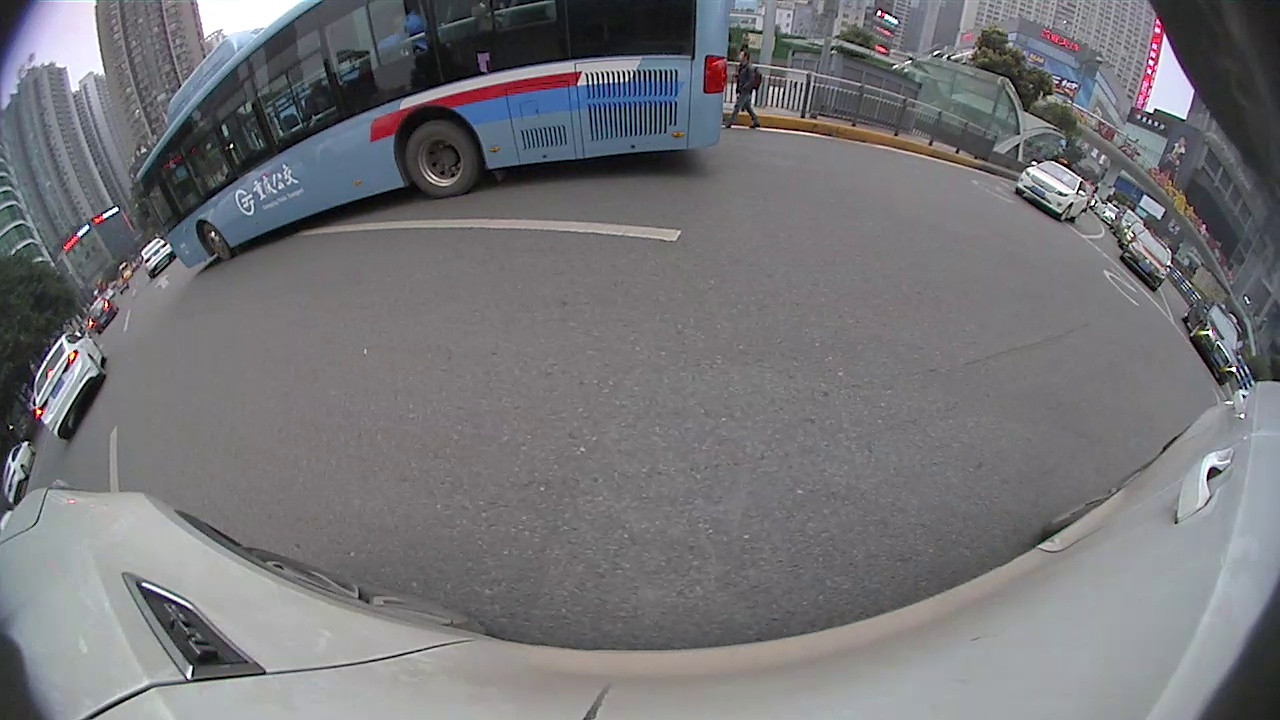bus: (132, 1, 734, 275)
car: (31, 331, 107, 442), (1182, 299, 1242, 387), (1013, 158, 1089, 224), (1118, 227, 1175, 293), (1, 440, 38, 510), (140, 237, 177, 278), (84, 294, 119, 330), (1115, 207, 1146, 241)
front: (194, 227, 237, 263), (1058, 203, 1076, 227), (1186, 320, 1205, 339)
person: (737, 48, 754, 126)
rear: (403, 117, 484, 198), (86, 352, 111, 376), (1179, 303, 1199, 318)
